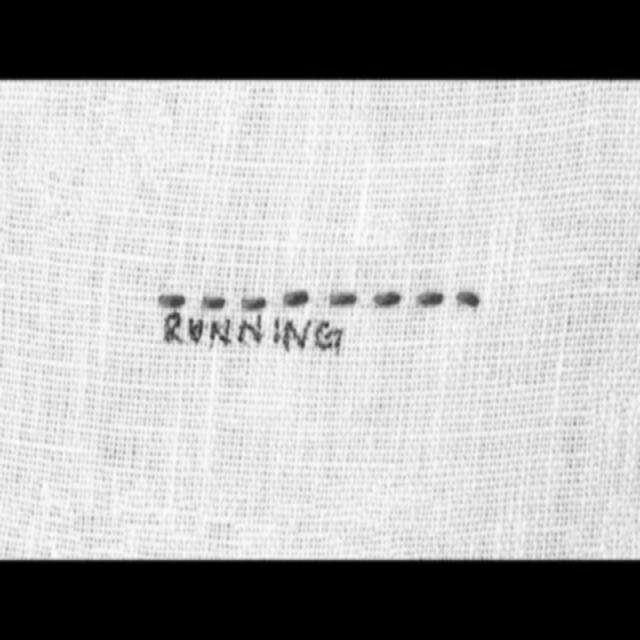stitch: (374, 290, 401, 307), (456, 290, 480, 308), (418, 290, 444, 306), (284, 290, 309, 306), (159, 293, 185, 308), (330, 292, 356, 307), (241, 297, 266, 310), (202, 295, 225, 309)
